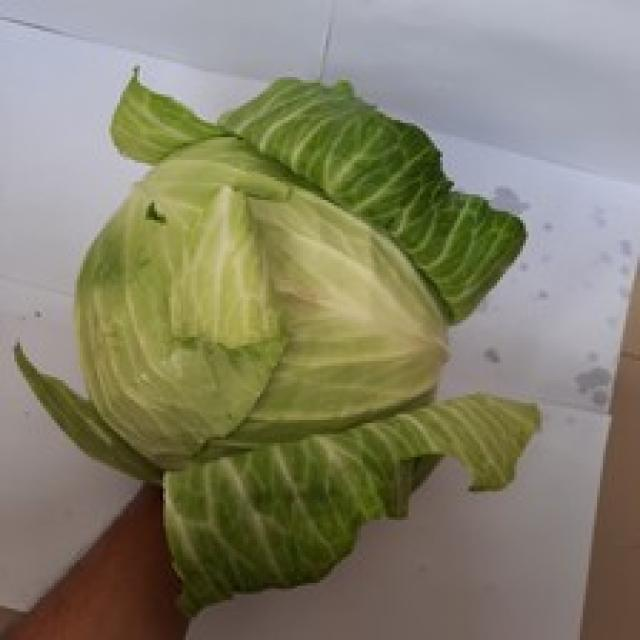Cabbage: (11, 63, 540, 617)
